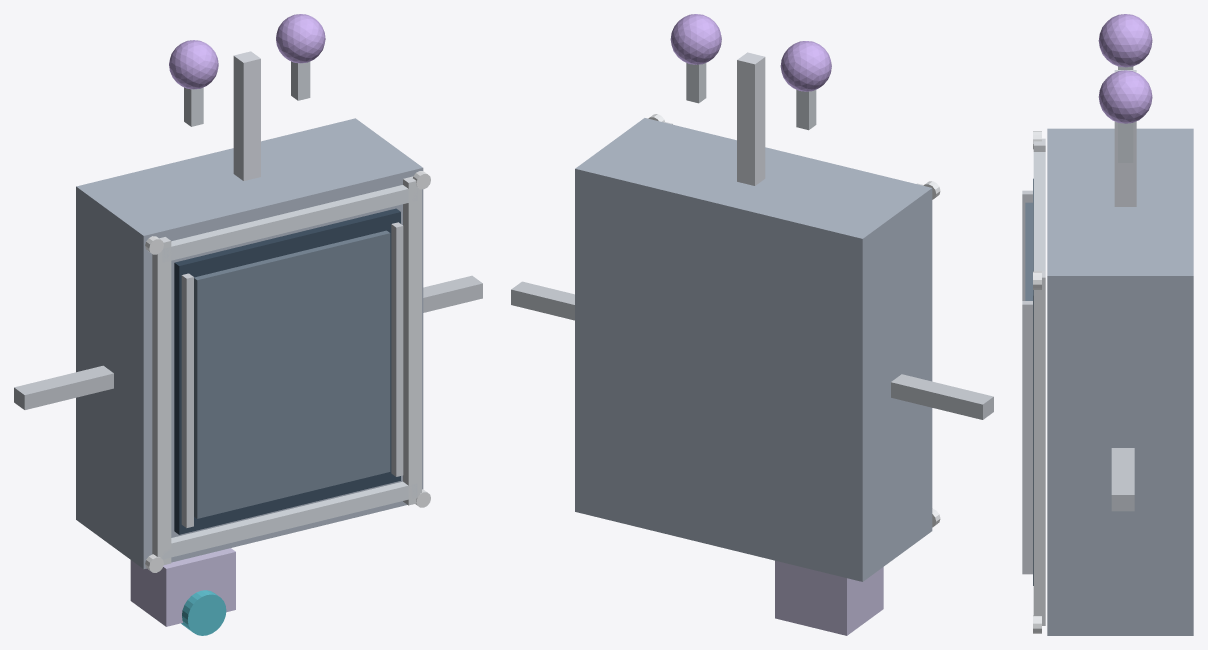
File: sat_003_bus_serviceable.glb
3 views of the same model, side by side, from view 1: azimuth 30°, elevation 25°; view 2: azimuth 150°, elevation 25°; view 3: azimuth 270°, elevation 25° (orthographic). The views are drawn at different scales.
Visible parts, largest first — view 1: Bus structural core, Service bay tray, Service bay depression, Structural side rail -0.61, Structural side rail 0.61, Radiometer module, Structural upper-lower rail -0.69, Structural upper-lower rail 0.69, Instrument mast, Bay guide rail -0.51, Bay guide rail 0.51, Wing boom -1 (+6 smaller); view 2: Bus structural core, Radiometer module, Instrument mast, Wing boom -1, Science sensor 0.26, Science sensor -0.26, Wing boom 1, Science sensor stalk -0.26, Science sensor stalk 0.26; view 3: Bus structural core, Structural side rail 0.61, Bay guide rail 0.51, Science sensor -0.26, Science sensor 0.26, Structural upper-lower rail 0.69, Wing boom 1, Instrument mast, Service bay tray, Science sensor stalk 0.26, Bay guide rail -0.51, Service bay depression.
Boxes of the visible parts, x1,y1,x2,y2 form: Bus structural core: (76, 118, 423, 568); Service bay tray: (194, 230, 390, 518); Service bay depression: (174, 208, 400, 534); Structural side rail -0.61: (152, 237, 171, 564); Structural side rail 0.61: (403, 176, 421, 505); Radiometer module: (130, 548, 235, 626); Structural upper-lower rail -0.69: (162, 481, 417, 559); Structural upper-lower rail 0.69: (162, 185, 417, 262); Instrument mast: (233, 51, 260, 180); Bay guide rail -0.51: (181, 273, 193, 527); Bay guide rail 0.51: (391, 222, 403, 476); Wing boom -1: (14, 365, 113, 409); Bus structural core: (575, 118, 932, 581); Radiometer module: (775, 560, 883, 635); Instrument mast: (737, 52, 765, 185); Wing boom -1: (891, 374, 993, 419); Science sensor 0.26: (670, 14, 721, 64); Science sensor -0.26: (780, 41, 831, 91); Wing boom 1: (511, 281, 574, 320); Science sensor stalk -0.26: (796, 89, 816, 130); Science sensor stalk 0.26: (686, 63, 706, 103); Bus structural core: (1047, 128, 1193, 635); Structural side rail 0.61: (1033, 270, 1045, 625); Bay guide rail 0.51: (1022, 301, 1032, 574); Science sensor -0.26: (1098, 14, 1152, 67); Science sensor 0.26: (1098, 70, 1152, 123); Structural upper-lower rail 0.69: (1033, 152, 1045, 270); Wing boom 1: (1111, 448, 1134, 511); Instrument mast: (1114, 70, 1136, 206); Service bay tray: (1025, 202, 1032, 300); Science sensor stalk 0.26: (1118, 123, 1133, 162); Bay guide rail -0.51: (1022, 190, 1032, 300); Service bay depression: (1033, 178, 1033, 585).
Size of the model in its own units: 2.23 by 2.64 by 0.6675.
